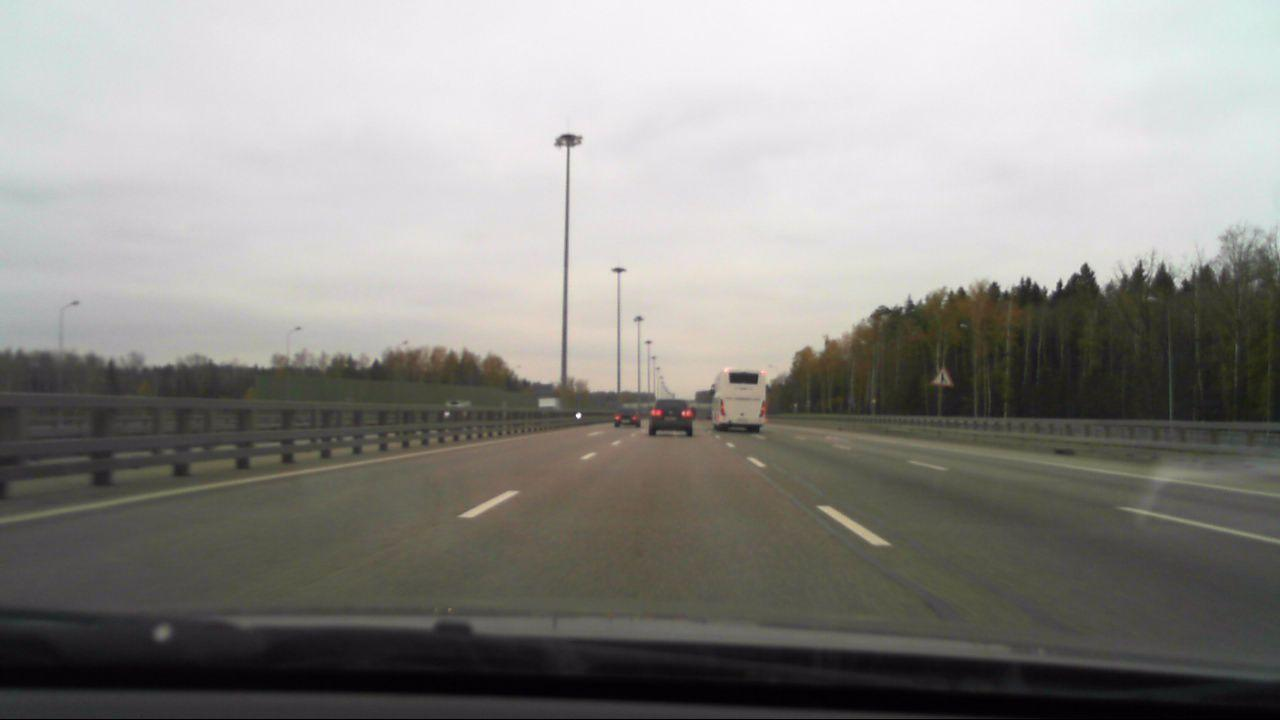2_3_6: (933, 364, 954, 385)
